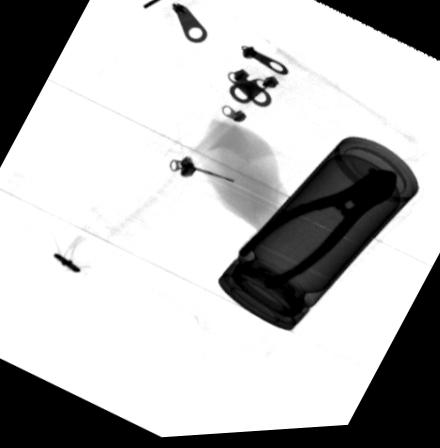Pliers: (236, 174, 396, 294)
